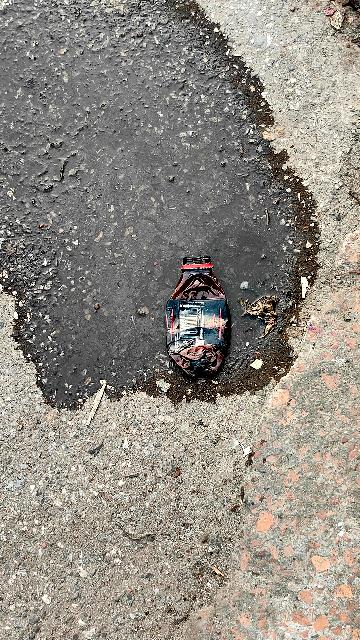bottle: (168, 253, 224, 379)
